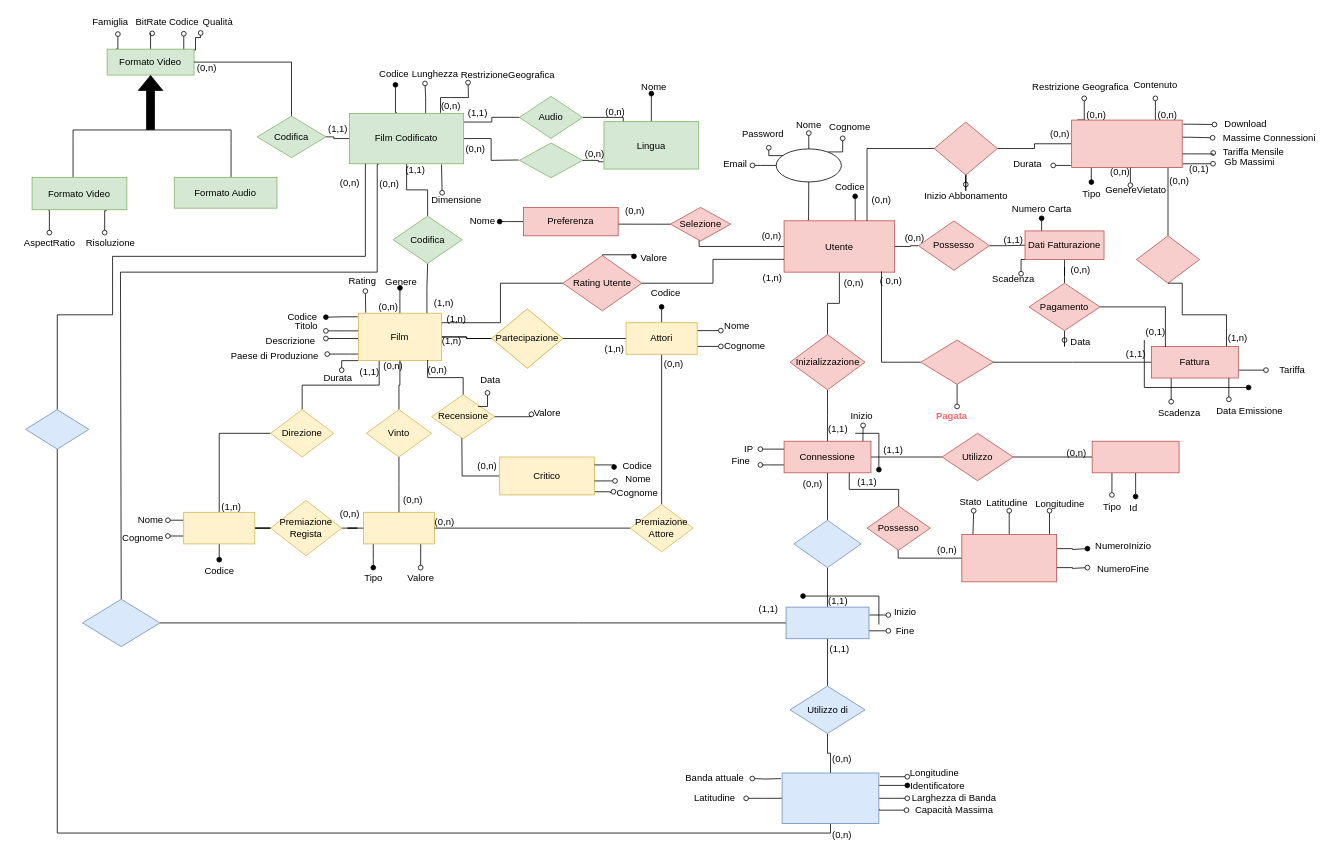
This 1337x861 diagram has some shape labels left out. Here are the shapes that lost their labels. From the top down, the centre of each, then its label:
the point at 551,160: Sottotitolo
the point at 965,148: Acquisto
the point at 1126,143: Abbonamento
the point at 808,165: Informazioni Personali
the point at 1168,259: Servizio
the point at 956,361: UtenteFattura
the point at 57,429: Cache
the point at 1135,456: Dispositivo
the point at 219,528: Regista
the point at 398,528: Premio
the point at 827,543: Richiesta
the point at 1009,558: Posizione
the point at 121,622: Di
the point at 827,622: Visualizzazione
the point at 830,798: Server
